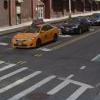Crosswalk: (1, 56, 98, 100)
